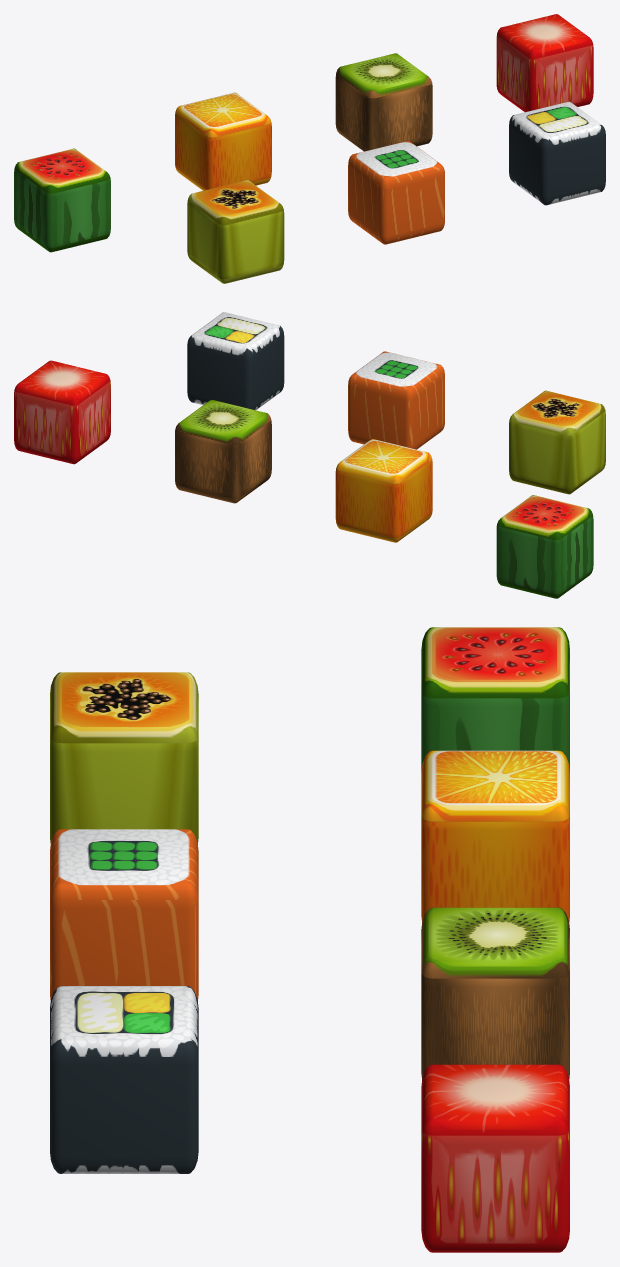
3 renders of one model, top to bottom at view 1: azimuth 30°, elevation 25°; view 2: azimuth 150°, elevation 25°; view 3: azimuth 270°, elevation 25°, orthographic. The views are drawn at different scales.
Visible parts, largest first — view 1: square_05, su_02, square_01, su_01, square_03, square_04, square_02; view 2: square_02, square_01, square_05, square_04, square_03, su_02, su_01; view 3: square_04, su_02, square_05, square_03, square_02, su_01, square_01.
Boxes of the visible parts, <box> form: square_05: <box>187,180,284,283</box>; su_02: <box>509,101,605,205</box>; square_01: <box>14,148,110,252</box>; su_01: <box>348,141,444,244</box>; square_03: <box>335,53,432,151</box>; square_04: <box>496,14,593,112</box>; square_02: <box>175,92,271,190</box>; square_02: <box>335,439,432,542</box>; square_01: <box>496,495,593,598</box>; square_05: <box>509,390,605,494</box>; square_04: <box>14,360,110,464</box>; square_03: <box>175,400,271,503</box>; su_02: <box>187,312,284,410</box>; su_01: <box>348,351,444,449</box>; square_04: <box>421,1064,569,1252</box>; su_02: <box>50,986,198,1173</box>; square_05: <box>50,672,198,843</box>; square_03: <box>421,907,569,1079</box>; square_02: <box>421,750,569,922</box>; su_01: <box>50,829,198,1000</box>; square_01: <box>421,627,569,771</box>.
Bounding box in the file's own units: 170 × 25 × 70.
7 materials, 7 textured.
